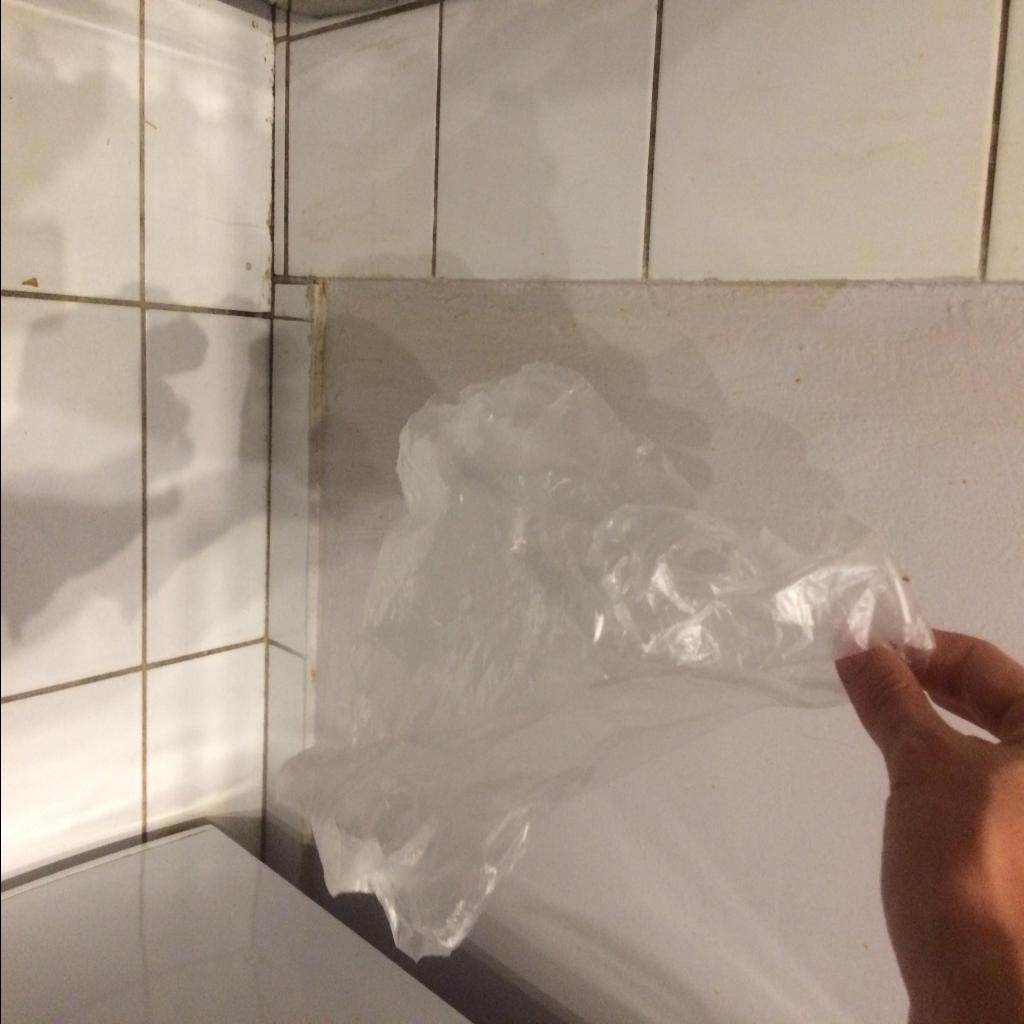Plastic film: (274, 364, 934, 964)
